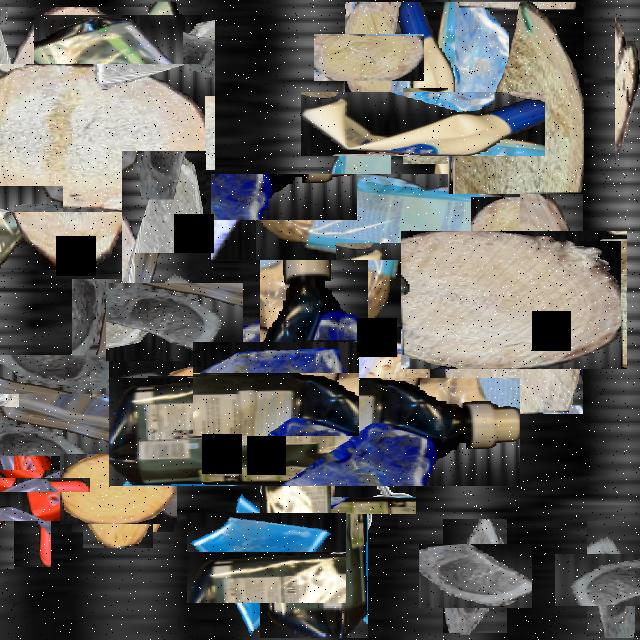glass: (211, 324, 341, 455), (204, 496, 328, 620), (122, 151, 206, 301), (120, 268, 228, 376), (417, 73, 523, 179), (430, 532, 520, 620), (571, 536, 640, 622), (0, 440, 52, 530)
metal: (341, 457, 407, 524)
plastic: (184, 302, 444, 562), (266, 118, 464, 316), (34, 317, 212, 494), (41, 8, 209, 177), (346, 47, 500, 202), (312, 333, 424, 446), (0, 447, 73, 544)
wood: (0, 35, 176, 241), (423, 209, 605, 392), (448, 2, 584, 194), (71, 442, 165, 536), (329, 18, 408, 96), (615, 2, 640, 172)
